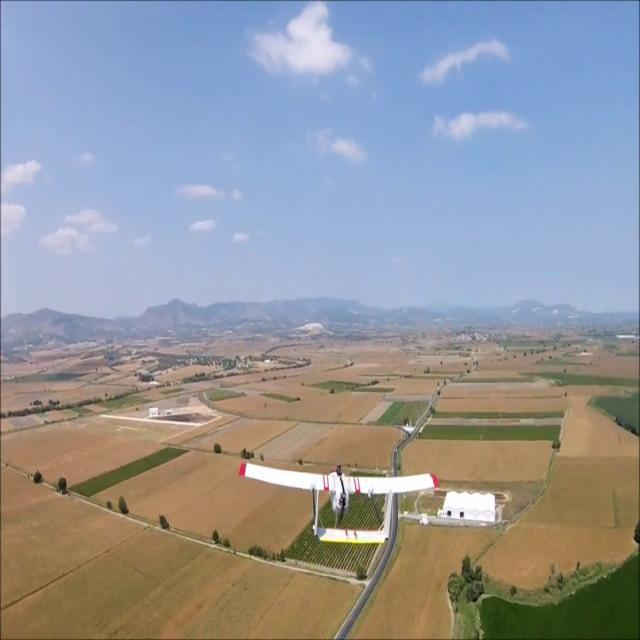iha: (237, 484, 446, 528)
